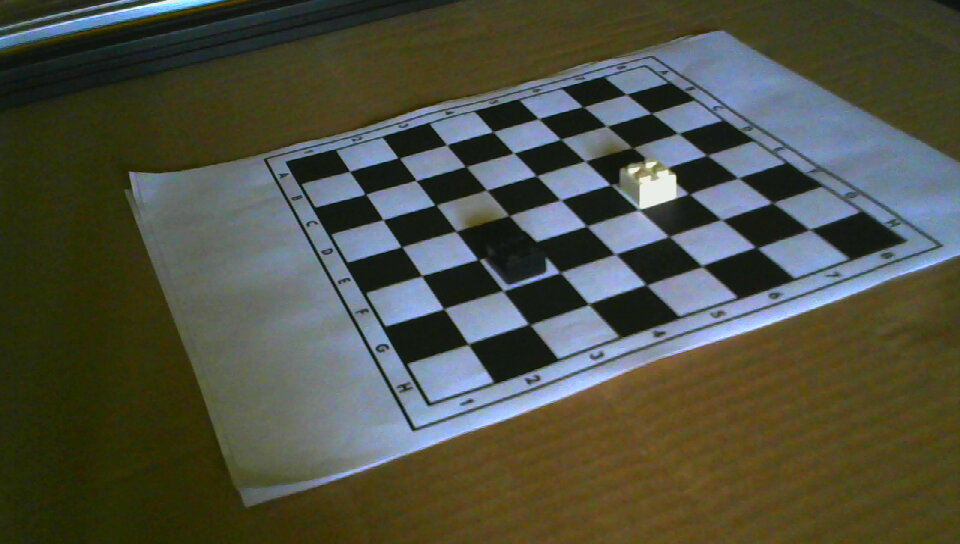bp: (486, 233, 545, 283)
wp: (622, 157, 677, 207)
